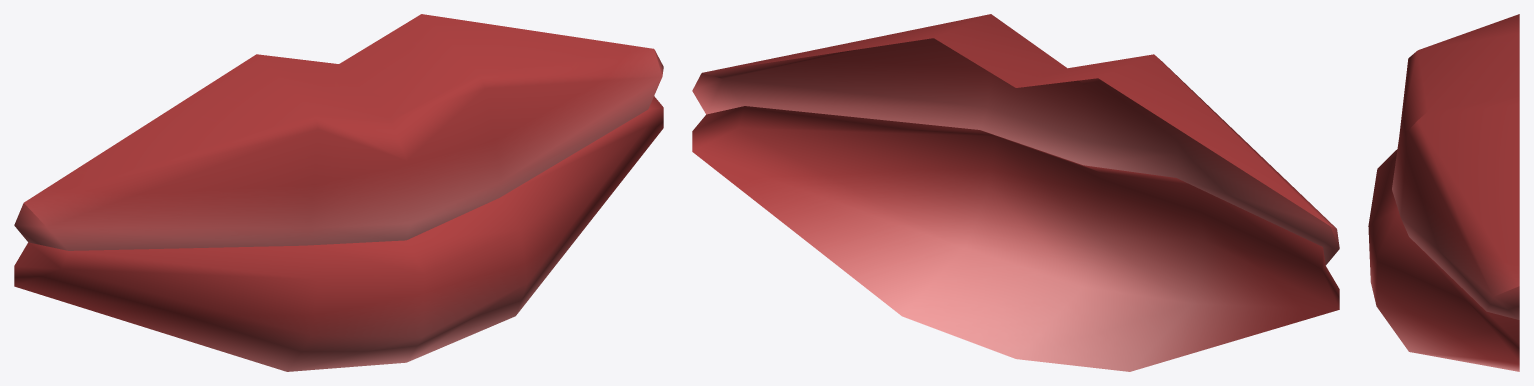
File: Mouth1.fbx
3 renders of one model, left to right at view 1: azimuth 30°, elevation 25°; view 2: azimuth 150°, elevation 25°; view 3: azimuth 270°, elevation 25°, orthographic. The views are drawn at different scales.
Parts seen in each view (by area): view 1: Lips; view 2: Lips; view 3: Lips.
Part boxes in pixels (x1=…): Lips: x1=14, y1=14, x2=663, y2=371; Lips: x1=692, y1=14, x2=1339, y2=371; Lips: x1=1368, y1=14, x2=1519, y2=371.
Size of the model in its own units: 0.9537 by 0.4234 by 0.2172.
1 material, 1 textured.
